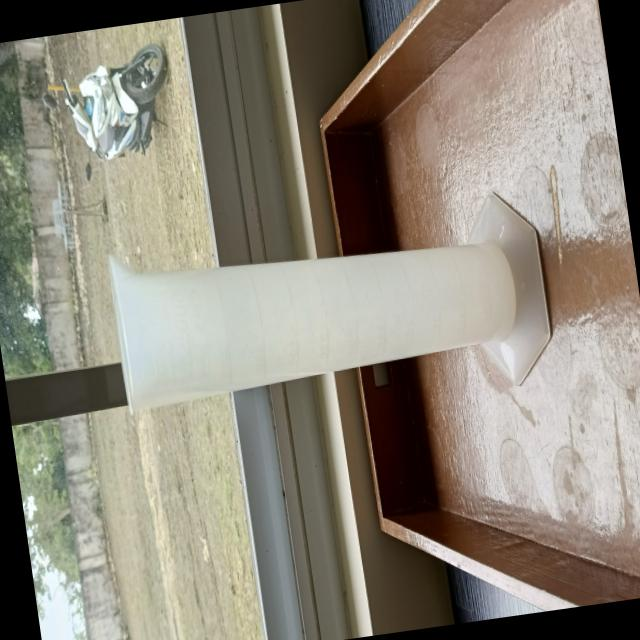graduated_cylinder: (88, 168, 565, 452)
